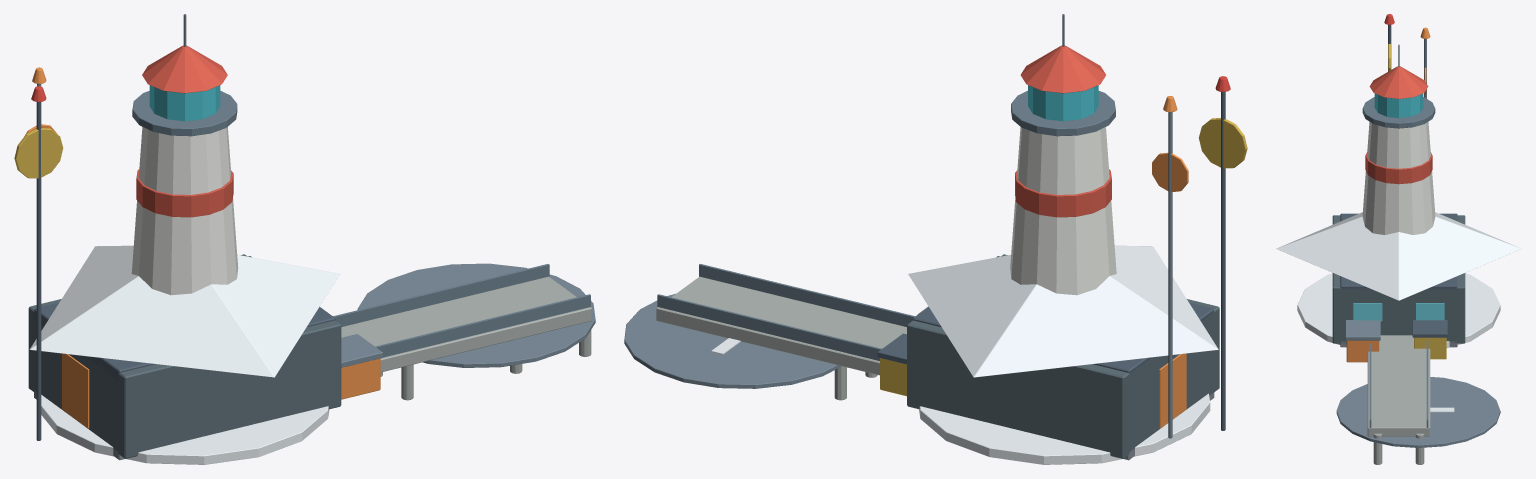
Rendered from fable-scene-landmarks.glb.
3 renders of one model, left to right at view 1: azimuth 30°, elevation 25°; view 2: azimuth 150°, elevation 25°; view 3: azimuth 270°, elevation 25°, orthographic. The views are drawn at different scales.
Visible parts, largest first — view 1: Alpine snow roof, Alpine station body, Coast lighthouse tower, Coast pier deck, Alpine heli pad, Alpine station foundation, Coast pier rail north, Coast pier rail south, Coast lighthouse roof, Coast lighthouse red band upper, Coast lighthouse balcony, Coast lighthouse lantern (+6 smaller); view 2: Alpine snow roof, Alpine station body, Coast lighthouse tower, Coast pier deck, Alpine heli pad, Alpine station foundation, Coast pier rail north, Coast pier rail south, Coast lighthouse roof, Coast lighthouse red band upper, Coast lighthouse balcony, Coast lighthouse lantern (+7 smaller); view 3: Alpine snow roof, Coast lighthouse tower, Coast pier deck, Alpine heli pad, Alpine station body, Alpine station foundation, Coast lighthouse roof, Coast lighthouse red band upper, Coast lighthouse balcony, Coast lighthouse lantern, Alpine generator cap, Storm shelter roof (+6 smaller).
Part boxes in pixels (x1,y1,x2,y2): Alpine snow roof: (29, 245, 339, 377); Alpine station body: (28, 254, 341, 458); Coast lighthouse tower: (131, 127, 238, 295); Coast pier deck: (341, 276, 591, 372); Alpine heli pad: (357, 263, 595, 367); Alpine station foundation: (41, 395, 329, 464); Coast pier rail north: (333, 264, 549, 326); Coast pier rail south: (375, 294, 590, 357); Coast lighthouse roof: (142, 45, 227, 93); Coast lighthouse red band upper: (136, 169, 233, 217); Coast lighthouse balcony: (132, 90, 237, 136); Coast lighthouse lantern: (149, 85, 220, 121); Alpine snow roof: (908, 245, 1218, 377); Alpine station body: (907, 254, 1219, 458); Coast lighthouse tower: (1010, 127, 1116, 295); Coast pier deck: (656, 276, 906, 375); Alpine heli pad: (624, 293, 841, 388); Alpine station foundation: (919, 393, 1210, 464); Coast pier rail north: (657, 294, 881, 360); Coast pier rail south: (699, 264, 914, 326); Coast lighthouse roof: (1020, 45, 1105, 93); Coast lighthouse red band upper: (1015, 169, 1111, 217); Coast lighthouse balcony: (1011, 90, 1115, 136); Coast lighthouse lantern: (1028, 85, 1098, 121); Alpine snow roof: (1276, 212, 1521, 300); Coast lighthouse tower: (1362, 121, 1435, 234); Coast pier deck: (1367, 335, 1430, 436); Alpine heli pad: (1336, 377, 1500, 447); Alpine station body: (1332, 215, 1465, 343); Alpine station foundation: (1297, 273, 1500, 347); Coast lighthouse roof: (1369, 66, 1428, 98); Coast lighthouse red band upper: (1365, 152, 1432, 184); Coast lighthouse balcony: (1362, 97, 1435, 128); Coast lighthouse lantern: (1374, 93, 1423, 118); Alpine generator cap: (1345, 320, 1380, 340); Storm shelter roof: (1340, 213, 1457, 292).
Bounding box in the file's own units: 59.4 × 40.95 × 31.49.
